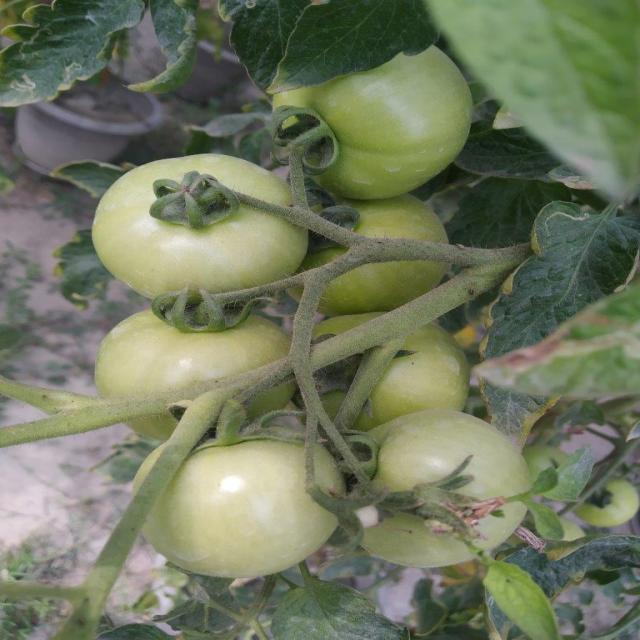Unripe: (272, 25, 474, 196), (125, 424, 349, 576), (89, 152, 309, 299), (97, 304, 298, 442), (347, 413, 524, 568), (298, 312, 468, 434), (304, 192, 448, 312)
